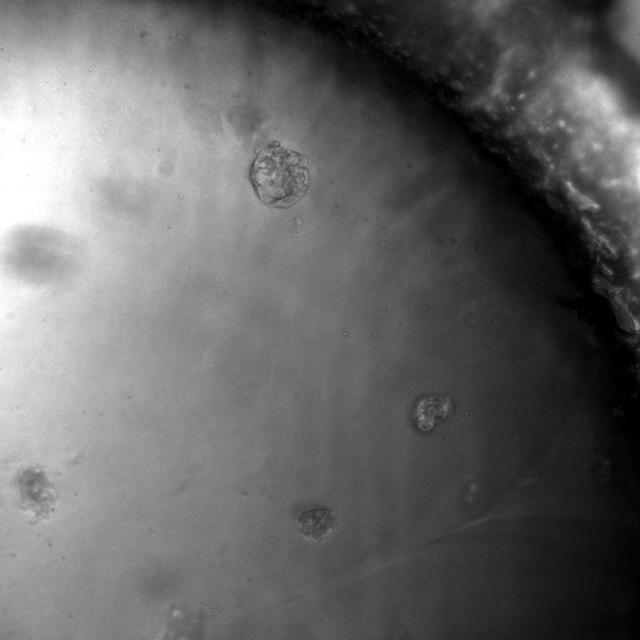organoid: (249, 140, 310, 208), (13, 465, 58, 522), (412, 395, 453, 432), (298, 508, 336, 542)
